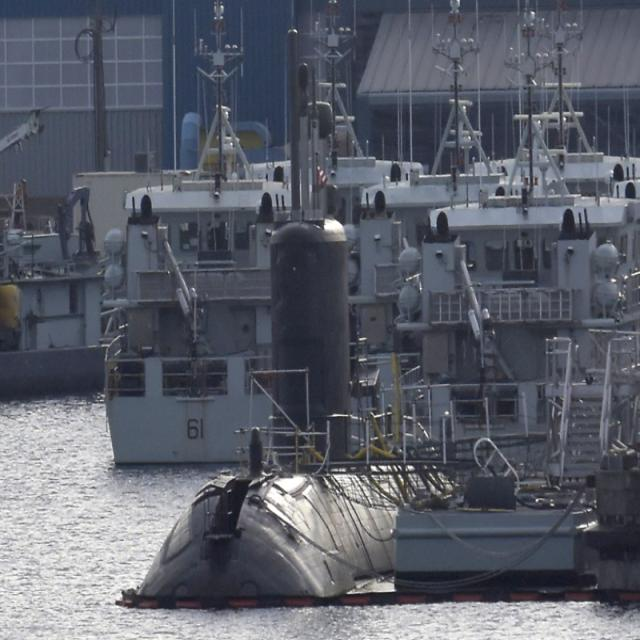submarine: (122, 92, 464, 599)
